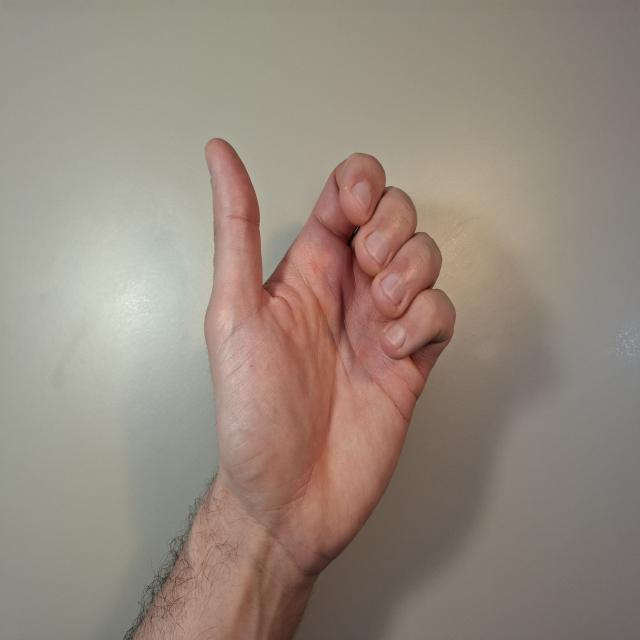glove_off: (202, 134, 458, 580)
